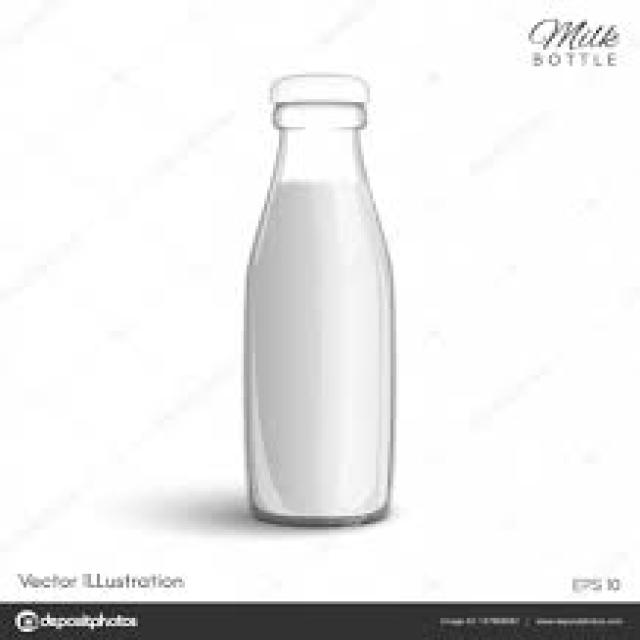glass: (238, 97, 393, 524), (270, 67, 364, 100)
